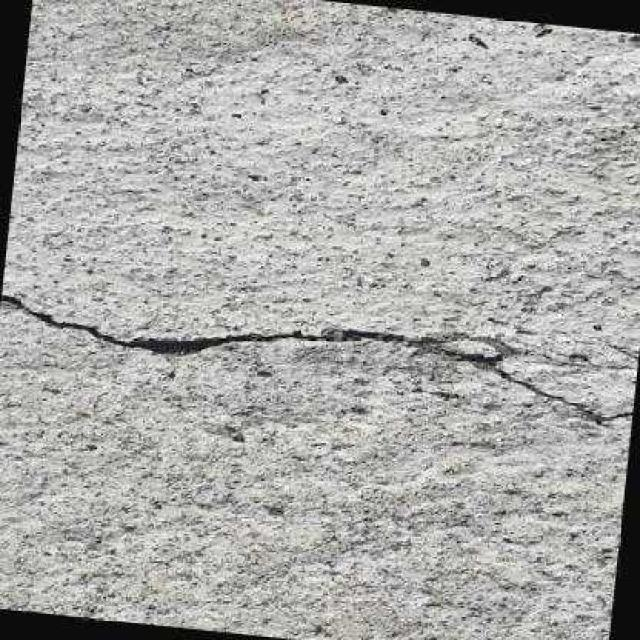D00: (1, 292, 632, 419)
